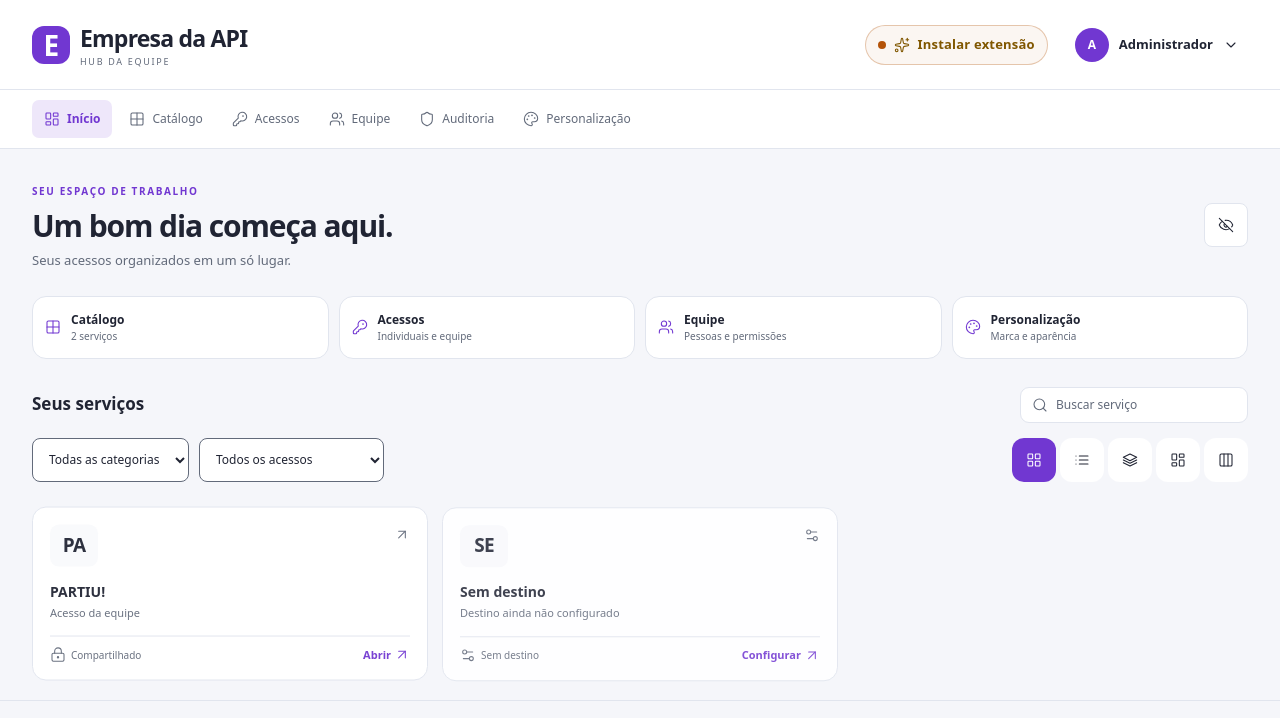
Test: Workspace UX refinements › keeps Home cards out of Catalog and filters table management records by search and category
Expected: the link with aria-label "Abrir PARTIU!" is shown, x1=32 y1=506 x2=428 y2=681
Click the button "Catálogo": (166, 119) x1=118 y1=100 x2=215 y2=138
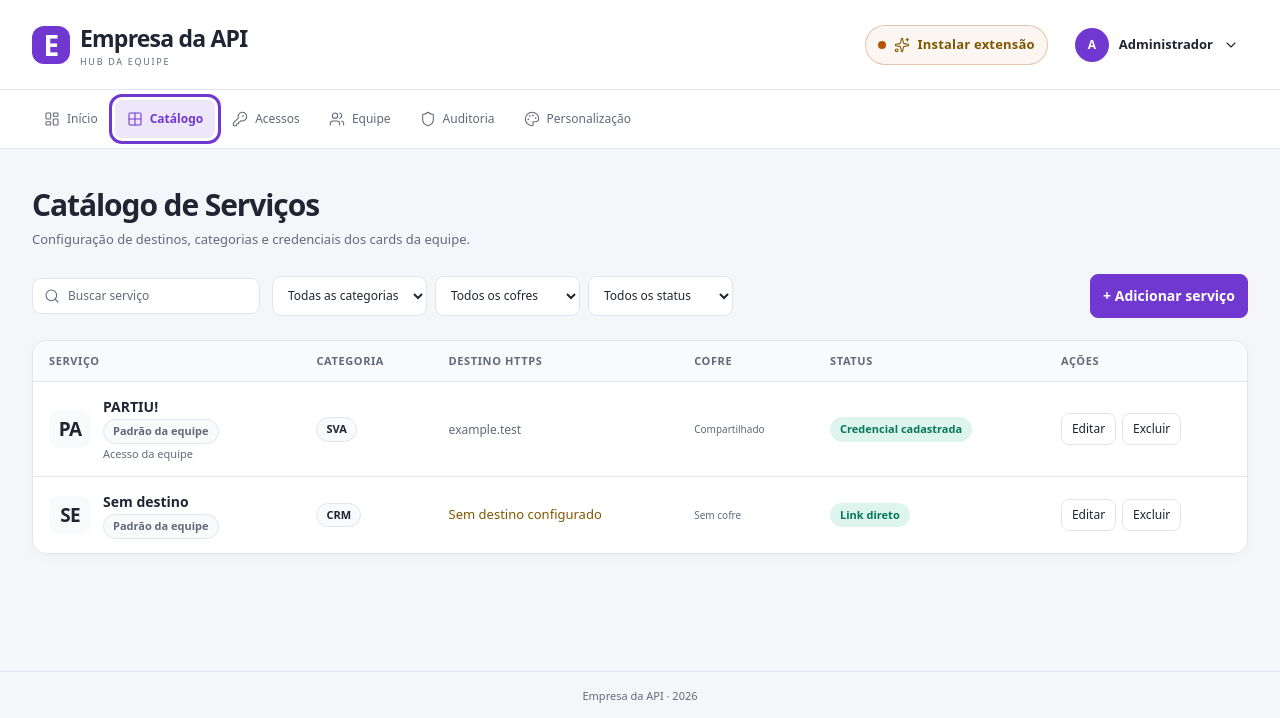
Expected: the element with class "hb-grid" is gone
Expected: the heading "Catálogo de Serviços" is shown, x1=32 y1=184 x2=319 y2=225
Expected: the table named "Tabela de serviços do catálogo" is shown, x1=33 y1=341 x2=1247 y2=553
In the field named "Buscar no catálogo": (158, 296) x1=68 y1=287 x2=248 y2=305, type "partiu"
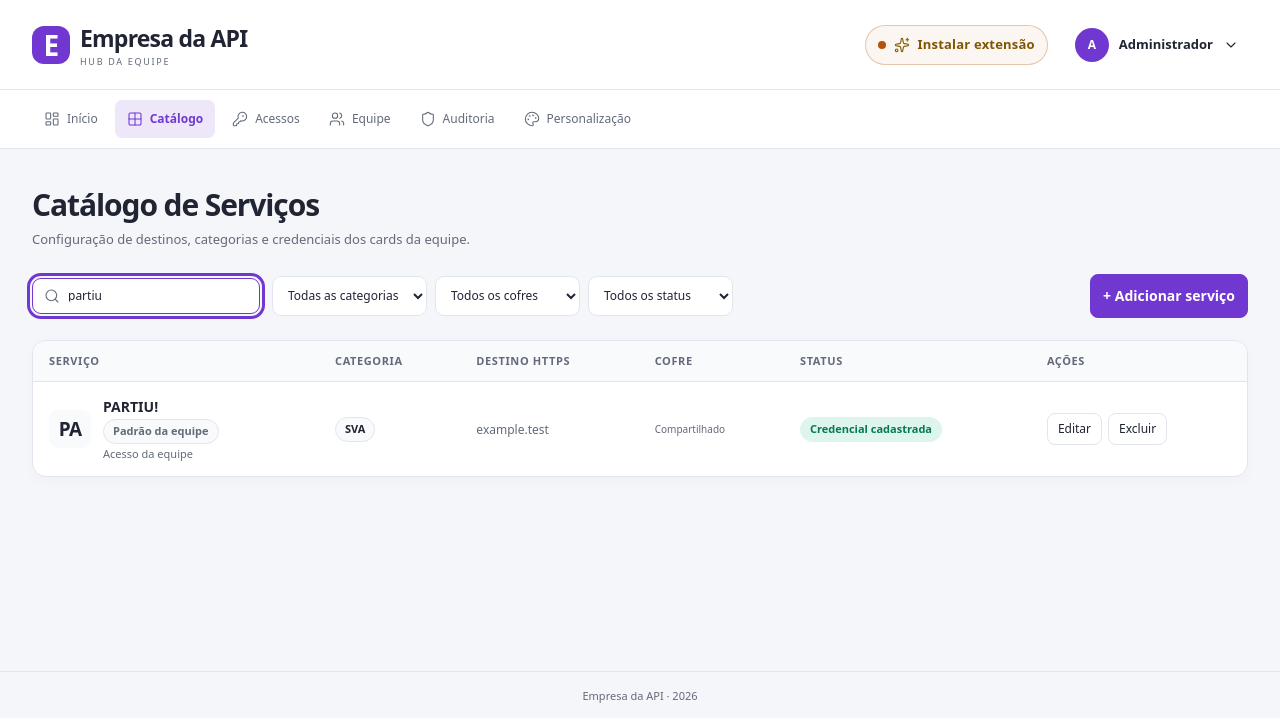
Expected: the number of rows with class "catalog-management-record" is 1, x1=33 y1=382 x2=1247 y2=476
Expected: the number of buttons "Editar" is 1, x1=1047 y1=413 x2=1102 y2=445
Expected: the number of buttons "Excluir" is 1, x1=1108 y1=413 x2=1167 y2=445
